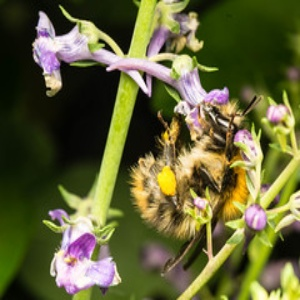bee: (134, 105, 254, 234)
